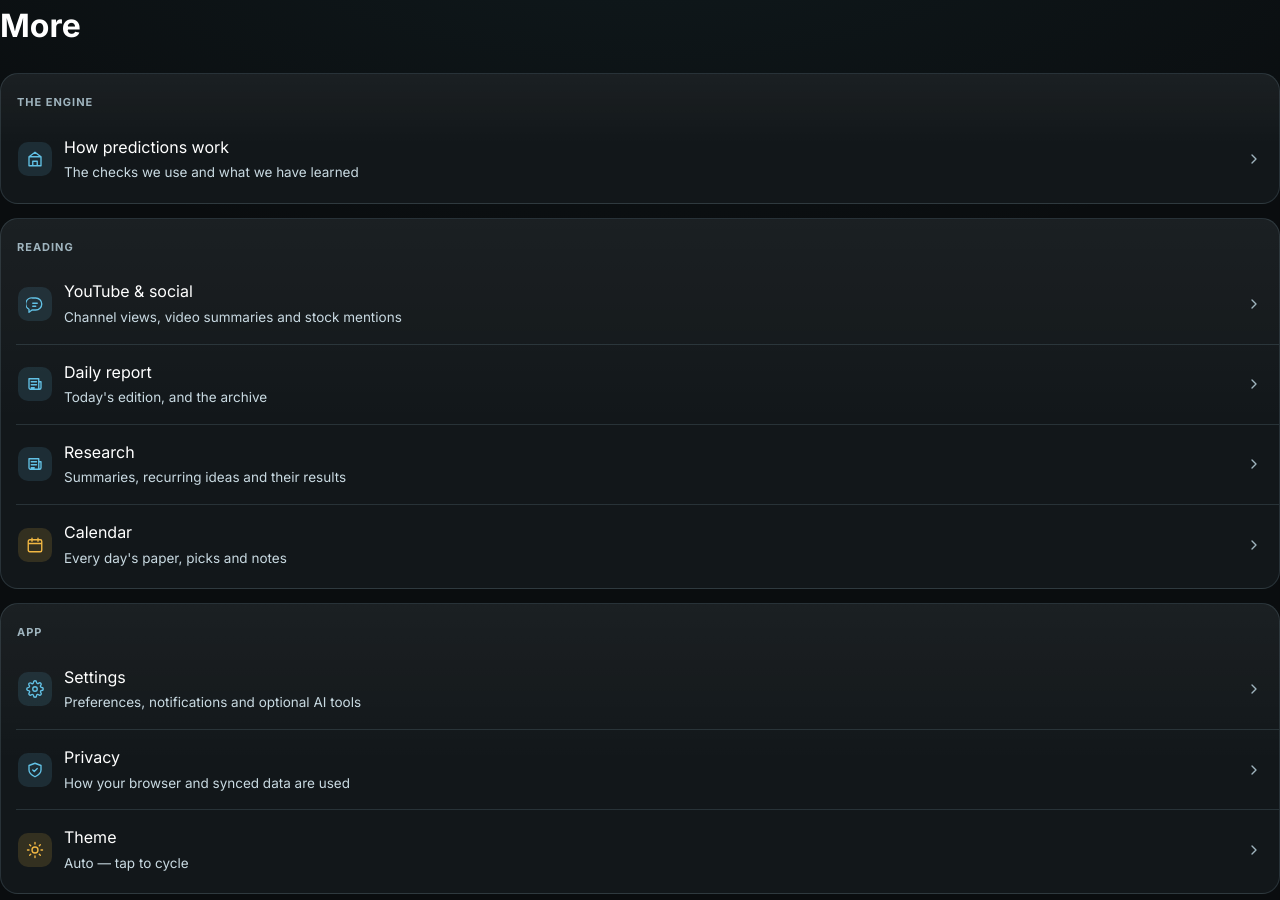
Test: More › theme row › cycles auto → dark → light → auto, writing mb-theme and dataset.theme each tap
(page scrolled)
Click the button "Theme Auto — tap to cycle" at coordinates (35, 850), box [1,809,1279,889]
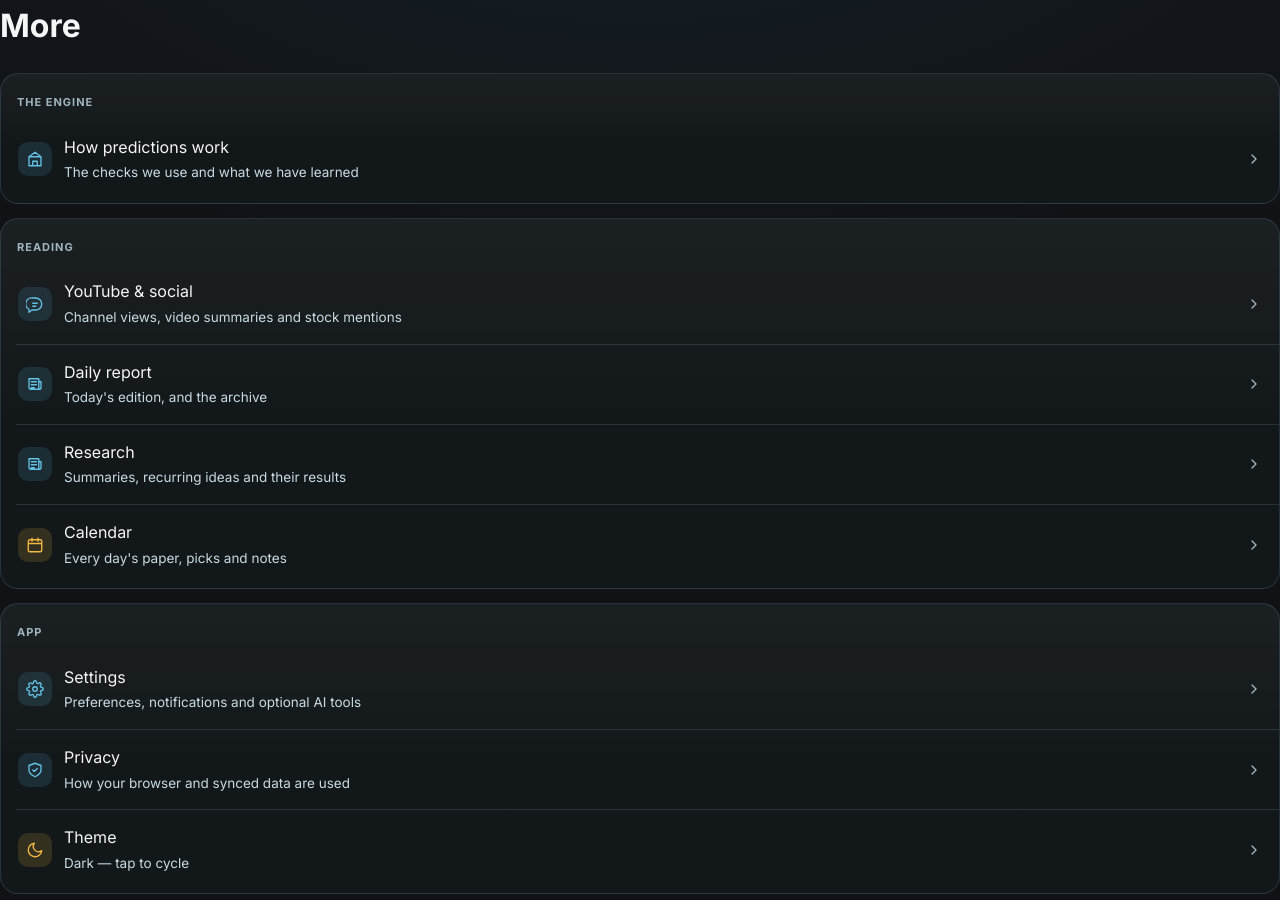
Result: the button "Theme Dark — tap to cycle" is shown
Click the button "Theme Dark — tap to cycle" at coordinates (35, 850), box [1,809,1279,889]
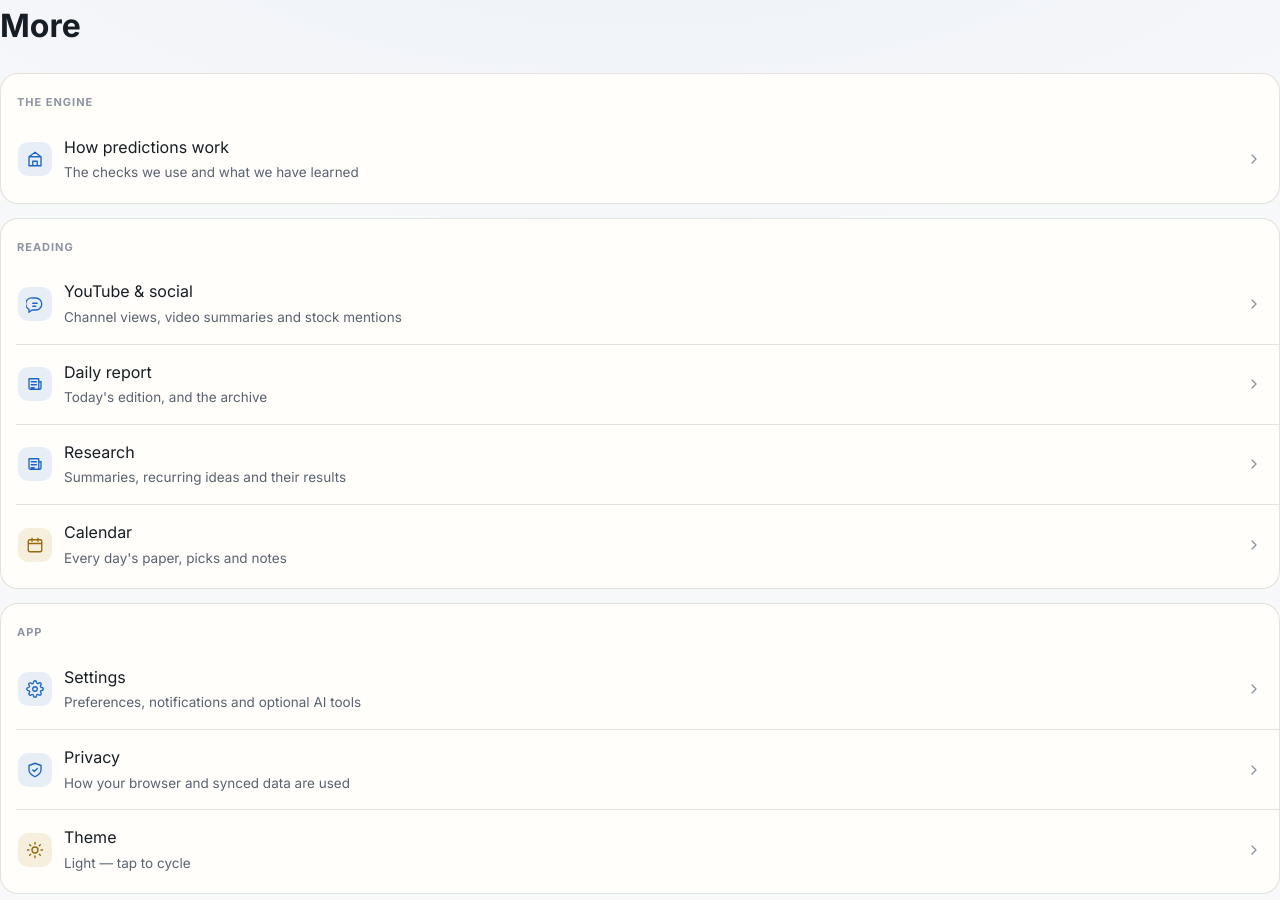
Result: the button "Theme Light — tap to cycle" is shown
Click the button "Theme Light — tap to cycle" at coordinates (35, 850), box [1,809,1279,889]
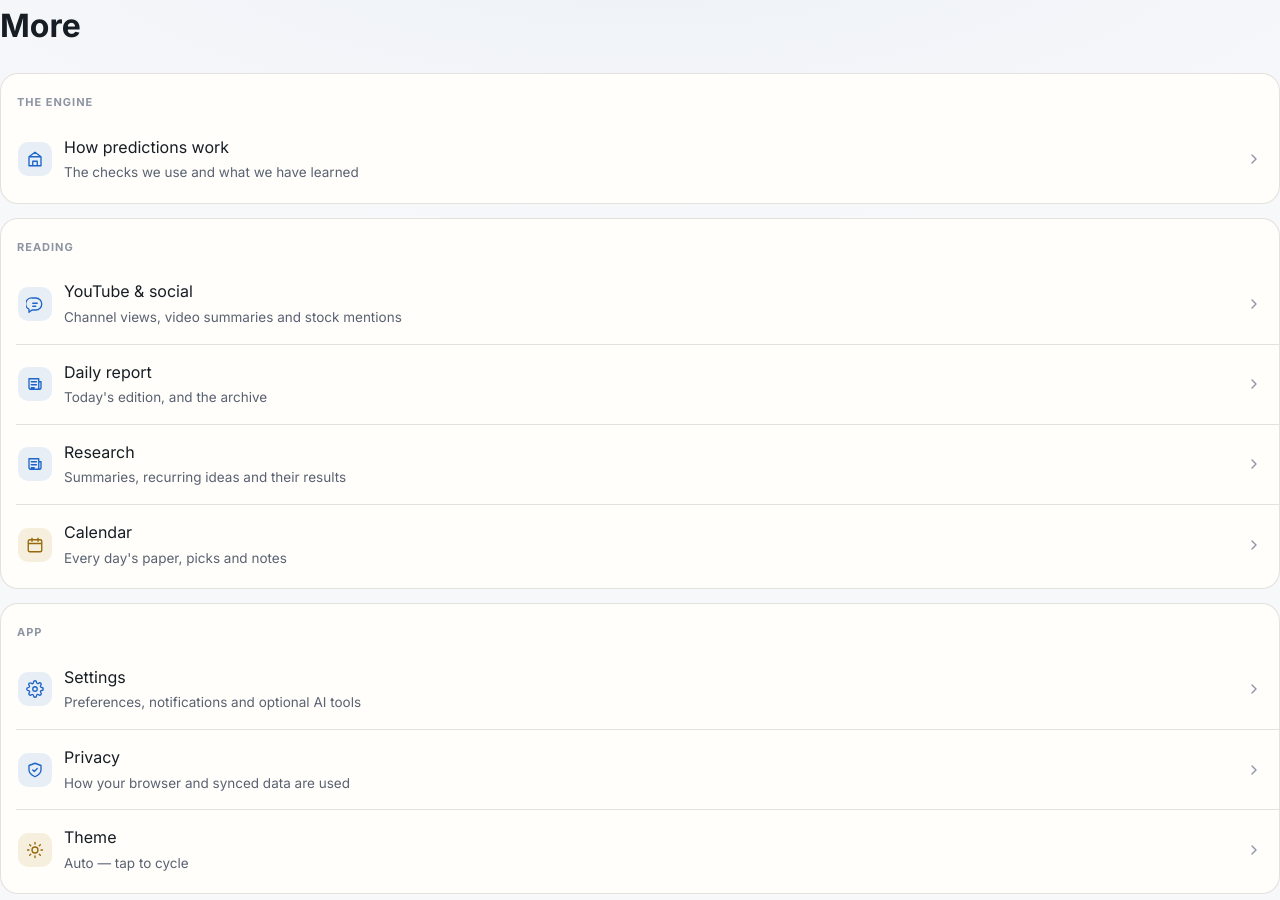
Result: the button "Theme Auto — tap to cycle" is shown at [1,809,1279,889]
